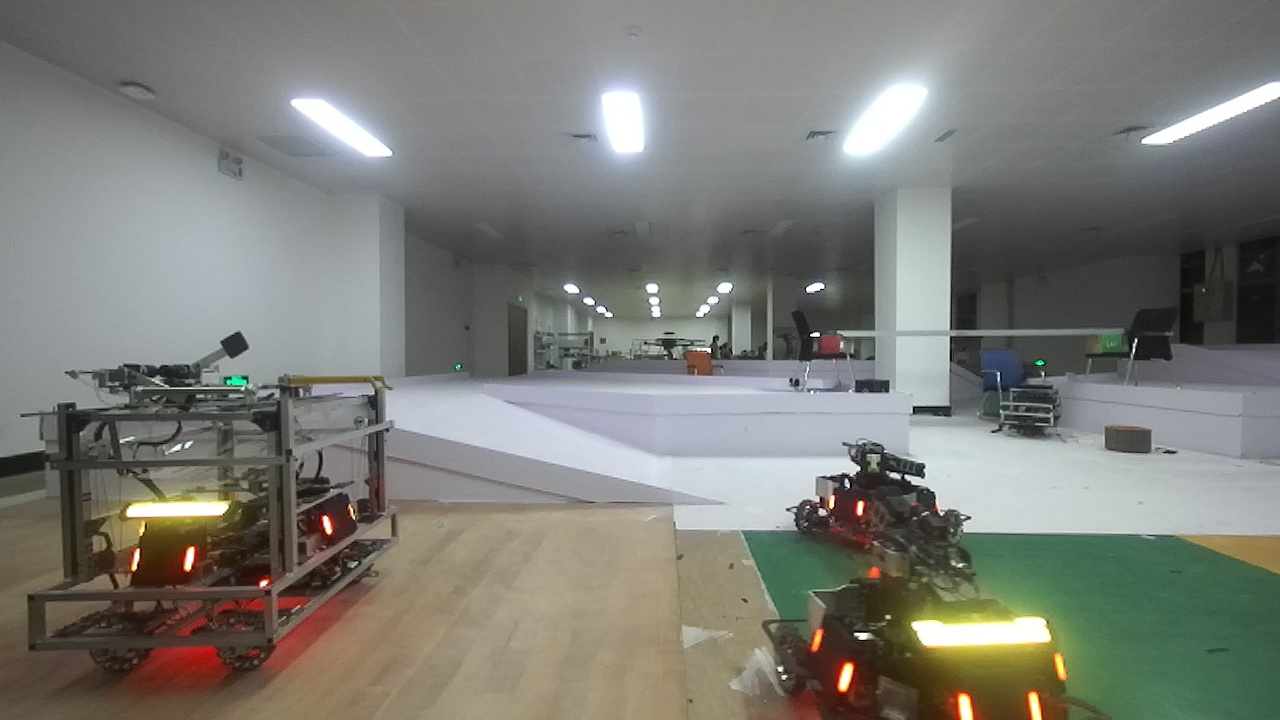car: (14, 323, 405, 695), (742, 519, 1090, 720), (783, 432, 952, 541)
